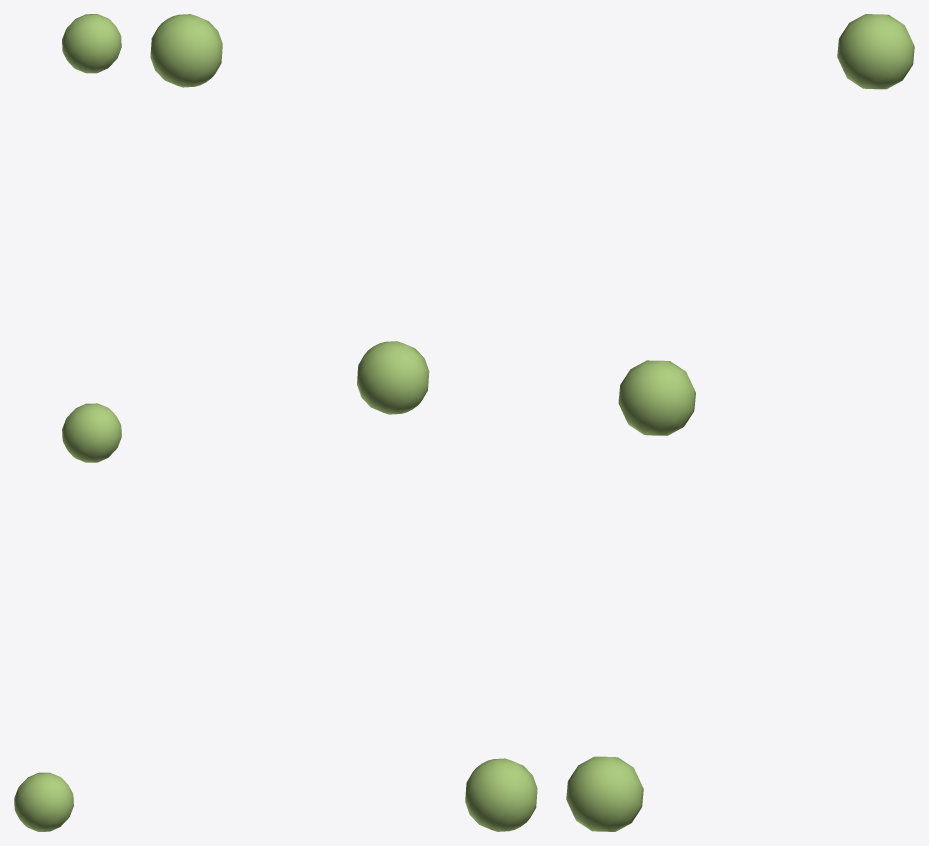
The model's file is left-colic-nodes.glb.
The picture shows the model from 3 angles, left to right: view 1: azimuth 30°, elevation 25°; view 2: azimuth 150°, elevation 25°; view 3: azimuth 270°, elevation 25°; orthographic projection. The views are drawn at different scales.
Parts seen in each view (by area): view 1: Left colic nodes; view 2: Left colic nodes; view 3: Left colic nodes.
Part boxes in pixels (x1,y1,x2,y2): Left colic nodes: (14, 14, 121, 831); Left colic nodes: (150, 14, 537, 831); Left colic nodes: (566, 14, 914, 831).
Size of the model in its own units: 0.0101 by 0.0331 by 0.0115.
